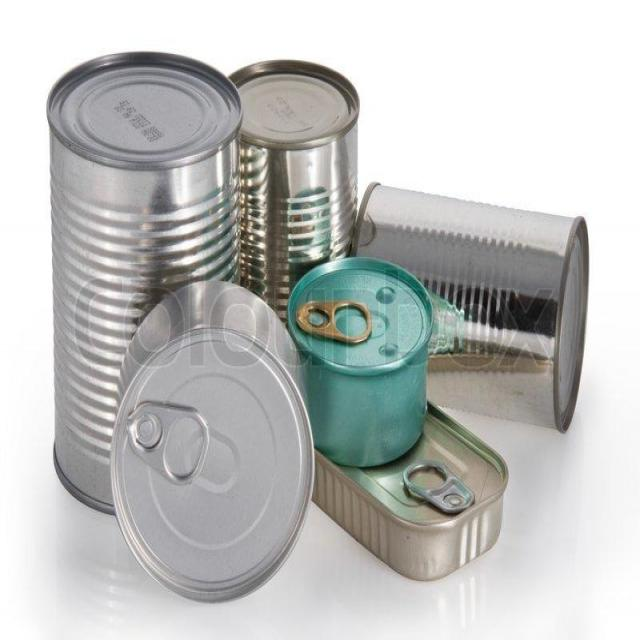metel: (37, 41, 249, 523), (100, 274, 325, 606), (344, 162, 597, 445), (216, 53, 362, 359), (305, 394, 533, 586), (287, 251, 440, 472)
